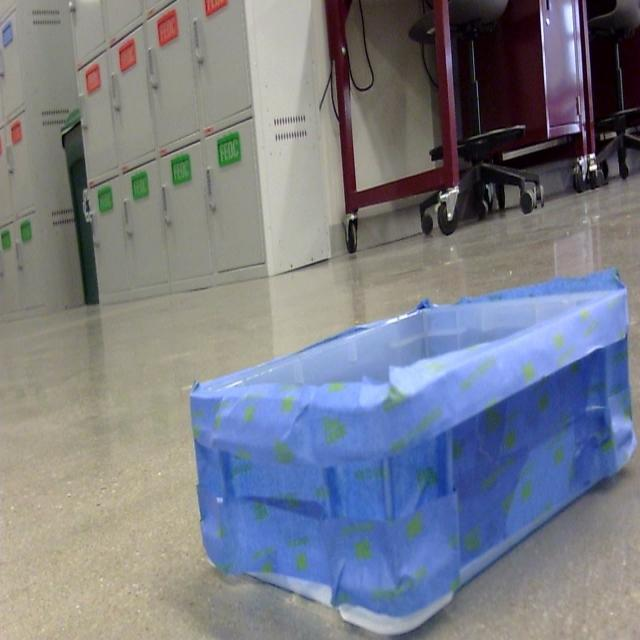bucket: (188, 268, 636, 640)
